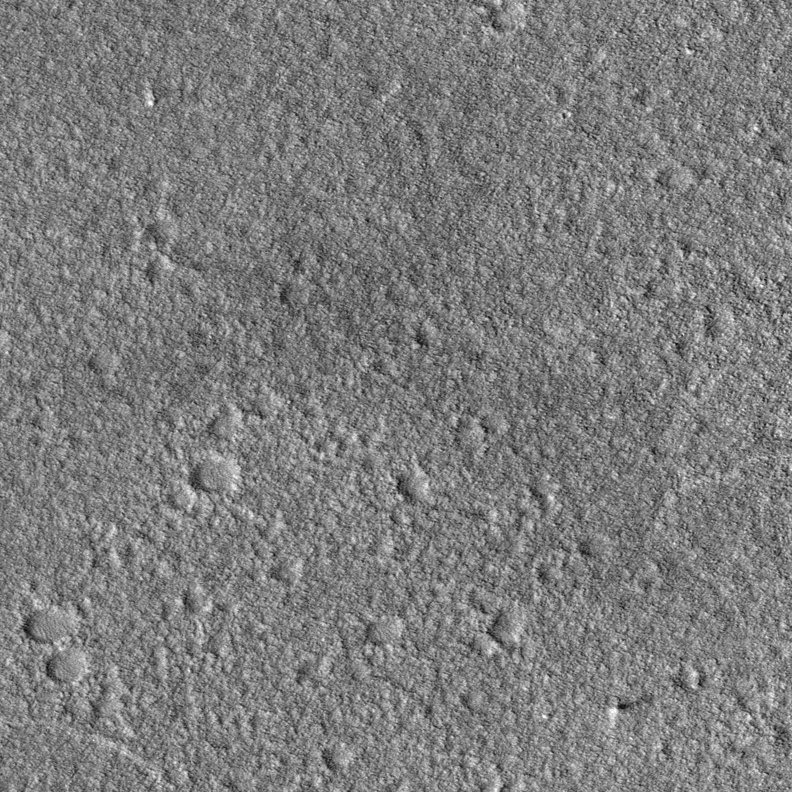dust_devil: (609, 699, 639, 721)
